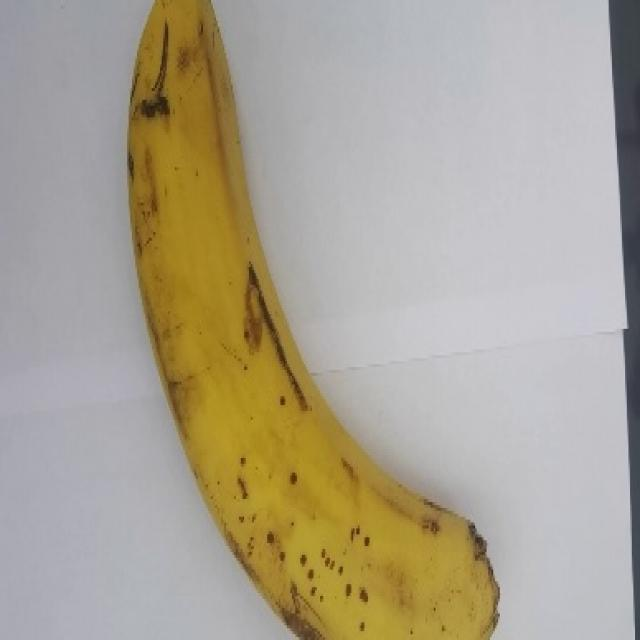Banana: (125, 0, 501, 639)
